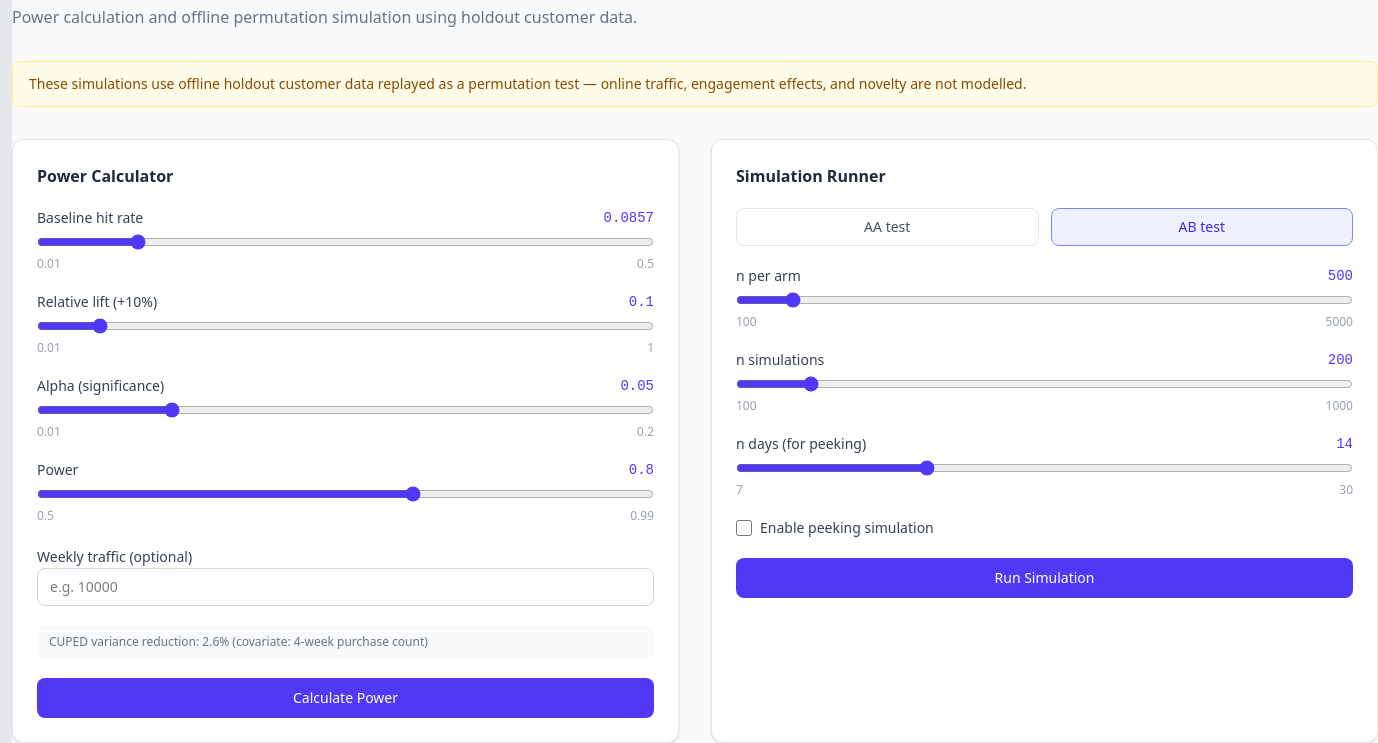
Scenario: ABSimulator page › renders power result on success
(page scrolled)
Click the button "Calculate Power".
click(346, 698)  # box x1=37 y1=678 x2=654 y2=718
(page scrolled)
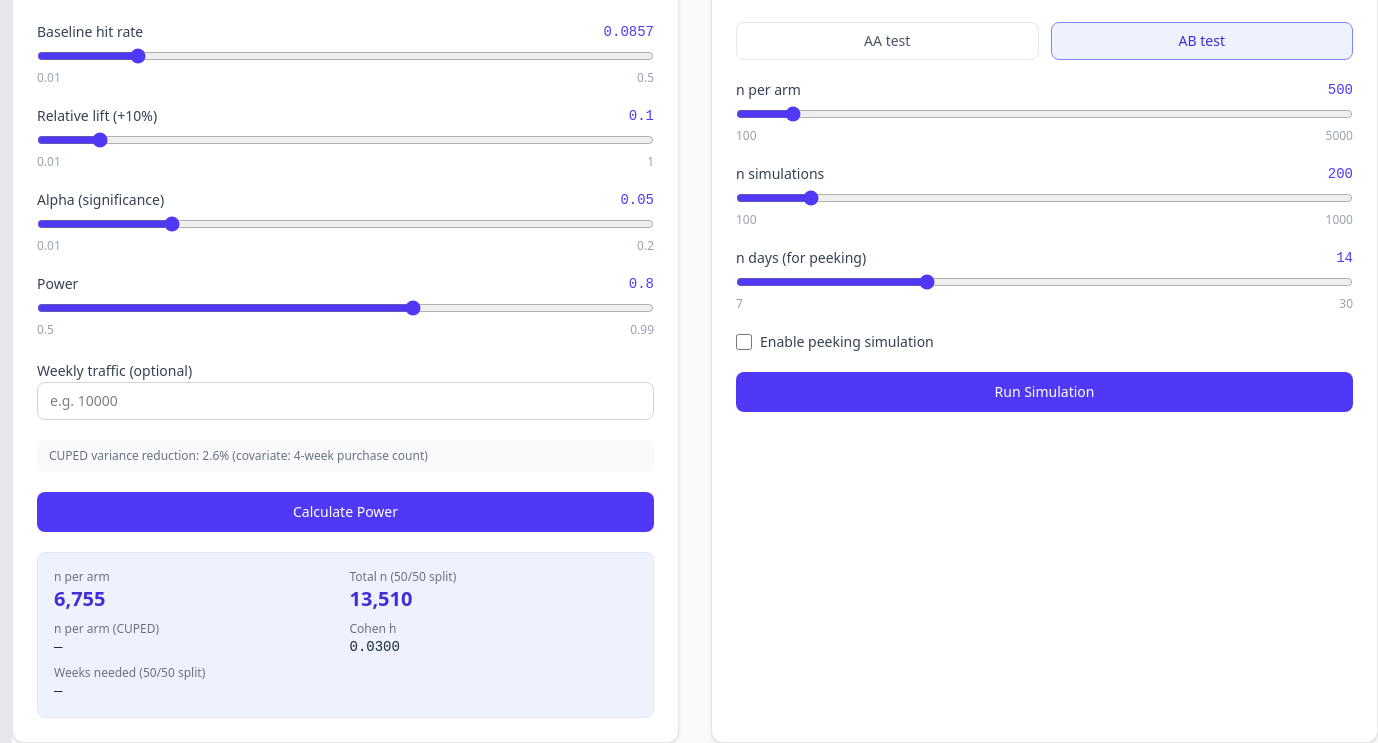
Expected: the text "6,755" is shown, x1=54 y1=585 x2=106 y2=612
